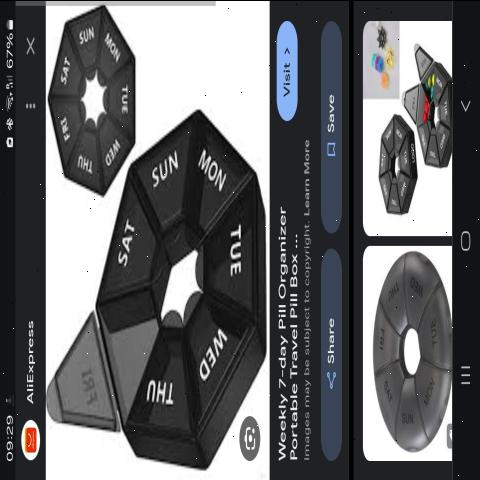Pill: (44, 114, 268, 468), (40, 0, 134, 220)
